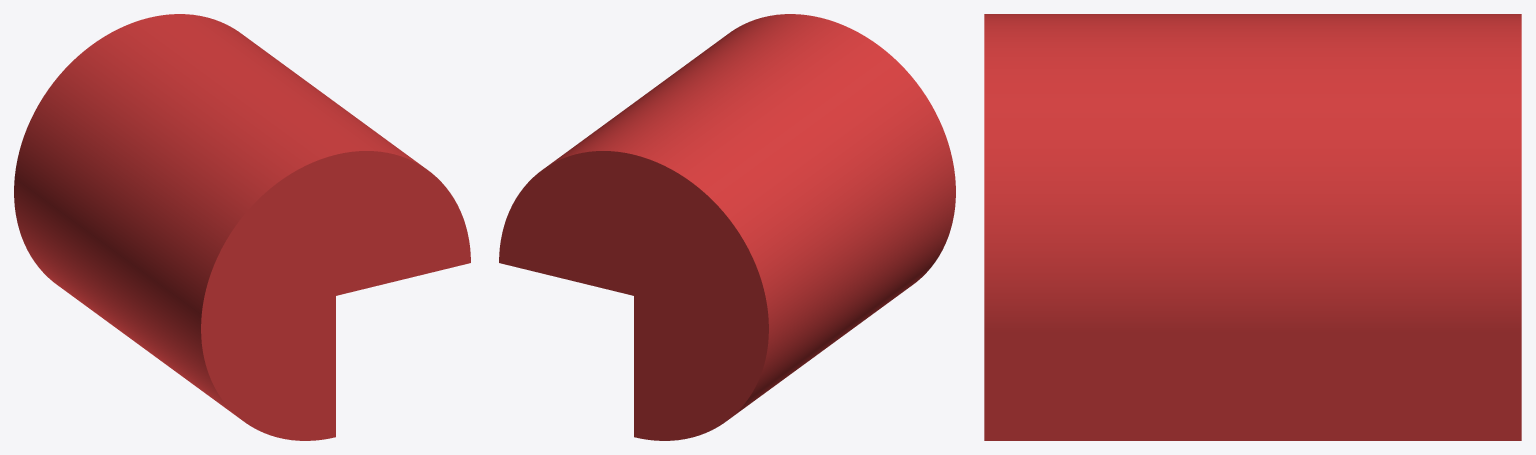
File: partial_cylinder.glb
3 views of the same model, side by side, from view 1: azimuth 30°, elevation 25°; view 2: azimuth 150°, elevation 25°; view 3: azimuth 270°, elevation 25° (orthographic). The views are drawn at different scales.
Parts seen in each view (by area): view 1: instance_1; view 2: instance_1; view 3: instance_1.
Boxes of the visible parts, x1,y1,x2,y2 form: instance_1: [14, 14, 470, 440]; instance_1: [499, 14, 955, 440]; instance_1: [984, 14, 1521, 440].
Size of the model in its own units: 0.1 by 0.1 by 0.12.
